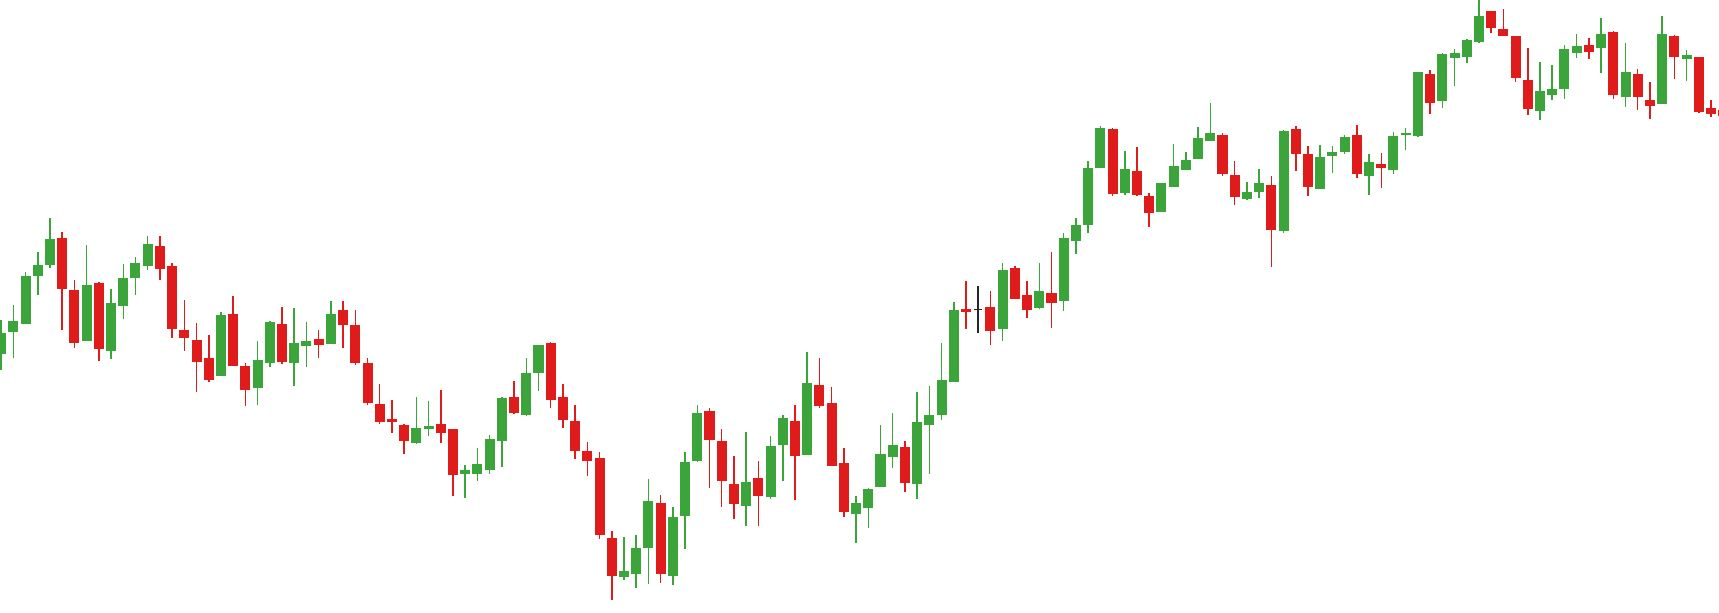buy: (753, 428, 862, 552)
sell: (1097, 100, 1230, 185), (80, 237, 167, 308)
